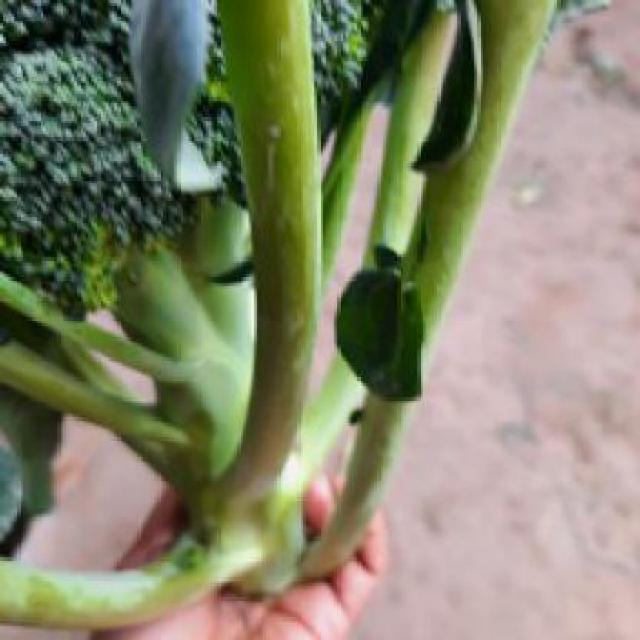broccoli: (0, 0, 483, 586)
